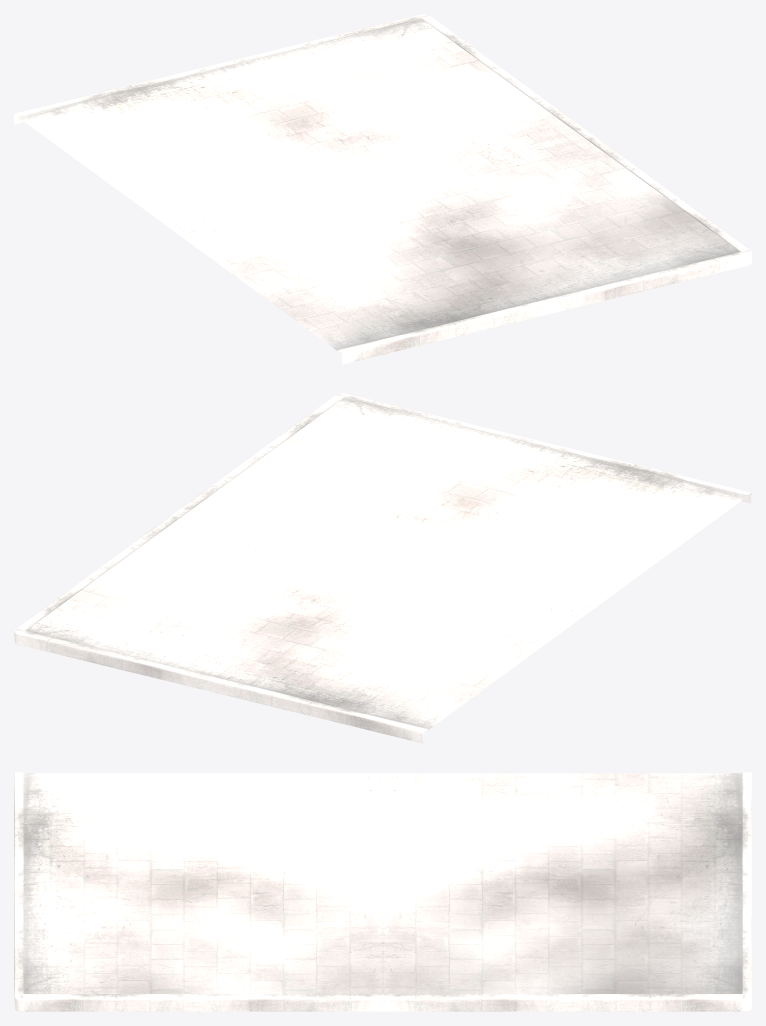
The picture shows the model from 3 angles, top to bottom: view 1: azimuth 30°, elevation 25°; view 2: azimuth 150°, elevation 25°; view 3: azimuth 270°, elevation 25°; orthographic projection. The views are drawn at different scales.
Parts seen in each view (by area): view 1: S_P_1; view 2: S_P_1; view 3: S_P_1.
Part boxes in pixels (left/top/right/bottom): S_P_1: left=14, top=14, right=751, bottom=364; S_P_1: left=14, top=393, right=751, bottom=743; S_P_1: left=14, top=772, right=751, bottom=1011.
Size of what is drawn, in the model's own units: 143 by 3.83 by 197.
Materials: 1 (1 with a texture image).
